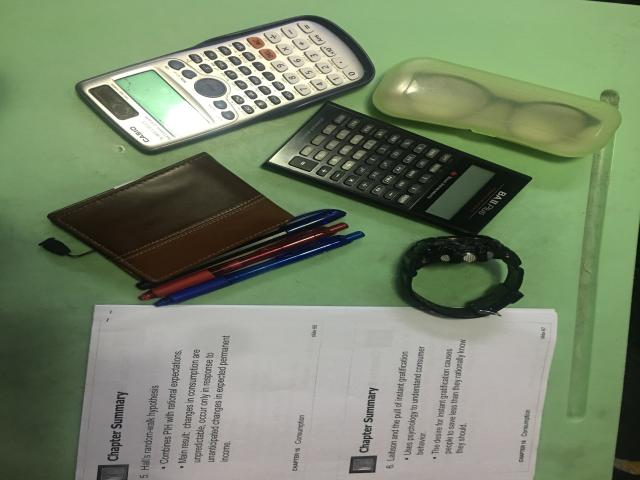Glasses: (373, 57, 620, 157)
Pen: (140, 210, 364, 306)
Wallet: (48, 153, 293, 282)
Watch: (394, 236, 523, 319)
paper: (70, 304, 560, 480)
